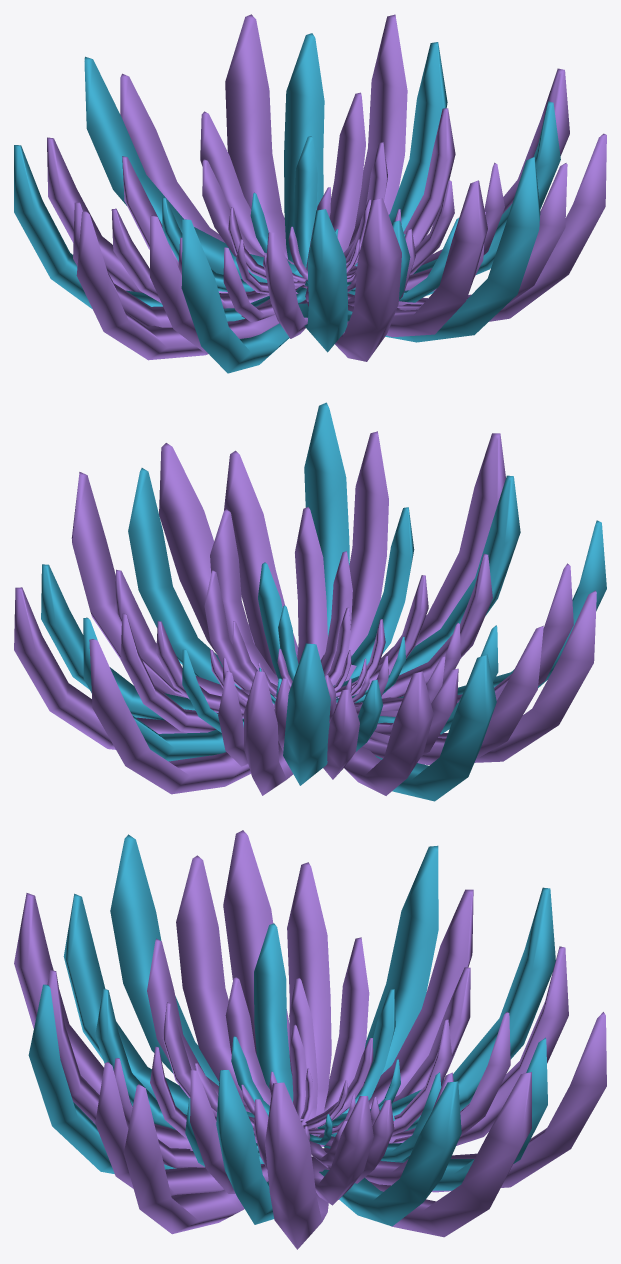
File: coral#0002.fbx
3 views of the same model, one above another, from view 1: azimuth 30°, elevation 25°; view 2: azimuth 150°, elevation 25°; view 3: azimuth 270°, elevation 25° (orthographic). The views are drawn at different scales.
Parts seen in each view (by area): view 1: coral 1; view 2: coral 1; view 3: coral 1.
Boxes of the visible parts, x1,y1,x2,y2 form: coral 1: (14,14,606,373); coral 1: (14,402,606,801); coral 1: (14,830,606,1249).
Bounding box in the file's own units: 44.29 × 19.73 × 41.39.
